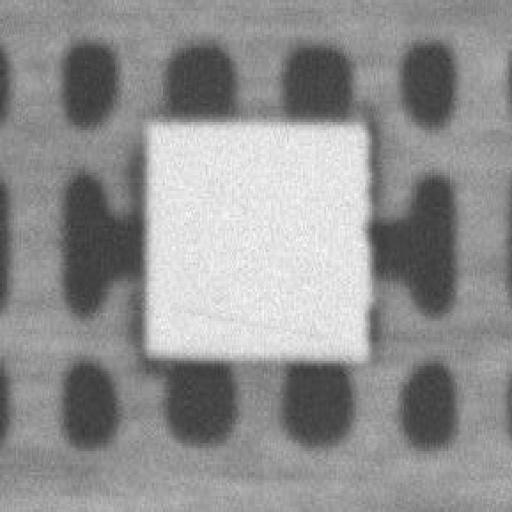DIE_CRACK: (252, 204, 488, 223)
